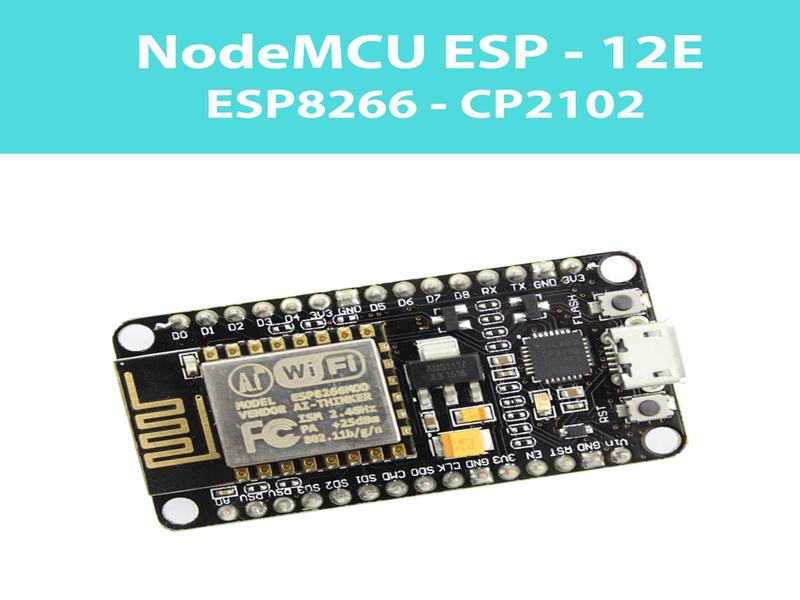ESP8266: (108, 233, 693, 539), (107, 242, 704, 537)
